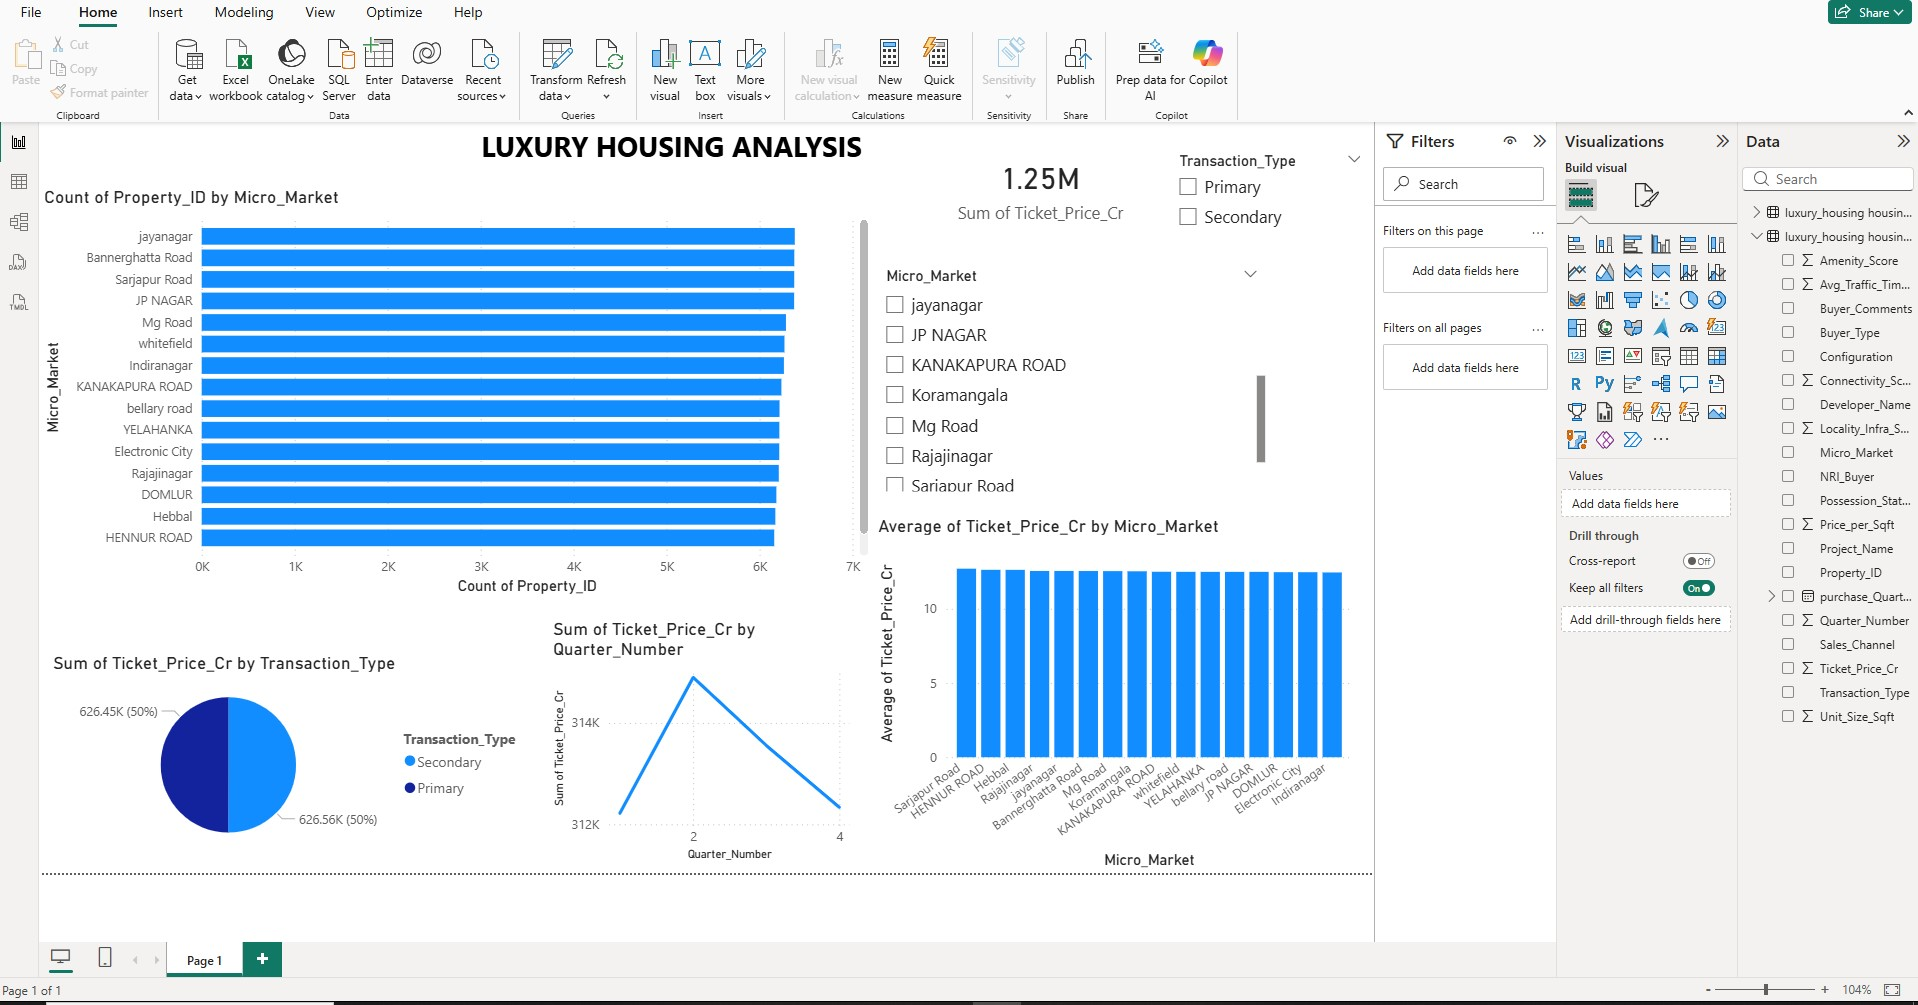

What the dashboard file says about the page in this screenshot:
{"tool":"powerbi","page":{"name":"Page 1","canvas":[1280,720],"ordinal":0},"visuals":[{"type":"clusteredBarChart","fields":{"Y":["CountNonNull(luxury_housing housing_sales_clean.Property_ID)"],"Category":["luxury_housing housing_sales_clean.Micro_Market"]},"box":[0,61.7,800,396.1],"z":0},{"type":"card","fields":{"Values":["Sum(luxury_housing housing_sales_clean.Ticket_Price_Cr)"]},"box":[839.9,24,240.7,77.7],"z":1000},{"type":"pieChart","fields":{"Category":["luxury_housing housing_sales_clean.Transaction_Type"],"Y":["Sum(luxury_housing housing_sales_clean.Ticket_Price_Cr)"]},"box":[8.6,508.2,467.9,197.5],"z":2000},{"type":"lineChart","fields":{"Category":["luxury_housing housing_sales_clean.Quarter_Number"],"Y":["Sum(luxury_housing housing_sales_clean.Ticket_Price_Cr)"]},"box":[488,475.6,294.4,236.8],"z":4000},{"type":"clusteredColumnChart","fields":{"Category":["luxury_housing housing_sales_clean.Micro_Market"],"Y":["Avg(luxury_housing housing_sales_clean.Ticket_Price_Cr)"]},"box":[799.6,376.8,464.1,343.3],"z":4001},{"type":"textbox","box":[413.5,0,386.5,48.2],"z":4002},{"type":"slicer","fields":{"Values":["luxury_housing housing_sales_clean.Micro_Market"]},"box":[799.6,134.2,380.6,225.3],"z":4003},{"type":"slicer","fields":{"Values":["luxury_housing housing_sales_clean.Transaction_Type"]},"box":[1080.6,24,199.4,90.1],"z":4004}]}

Visuals, with their boxes on the page's 1280x720 design canvas (x1, y1, x2, y2). These are canvas units, not pixel positions in the 1918x1005 screenshot, which may show the page scaled, cropped or inside an application window:
clusteredBarChart - CountNonNull(luxury_housing housing_sales_clean.Property_ID) x luxury_housing housing_sales_clean.Micro_Market: Rect(0, 62, 800, 458)
card - Sum(luxury_housing housing_sales_clean.Ticket_Price_Cr): Rect(840, 24, 1081, 102)
pieChart - luxury_housing housing_sales_clean.Transaction_Type x Sum(luxury_housing housing_sales_clean.Ticket_Price_Cr): Rect(9, 508, 476, 706)
lineChart - luxury_housing housing_sales_clean.Quarter_Number x Sum(luxury_housing housing_sales_clean.Ticket_Price_Cr): Rect(488, 476, 782, 712)
clusteredColumnChart - luxury_housing housing_sales_clean.Micro_Market x Avg(luxury_housing housing_sales_clean.Ticket_Price_Cr): Rect(800, 377, 1264, 720)
textbox: Rect(414, 0, 800, 48)
slicer - luxury_housing housing_sales_clean.Micro_Market: Rect(800, 134, 1180, 360)
slicer - luxury_housing housing_sales_clean.Transaction_Type: Rect(1081, 24, 1280, 114)
